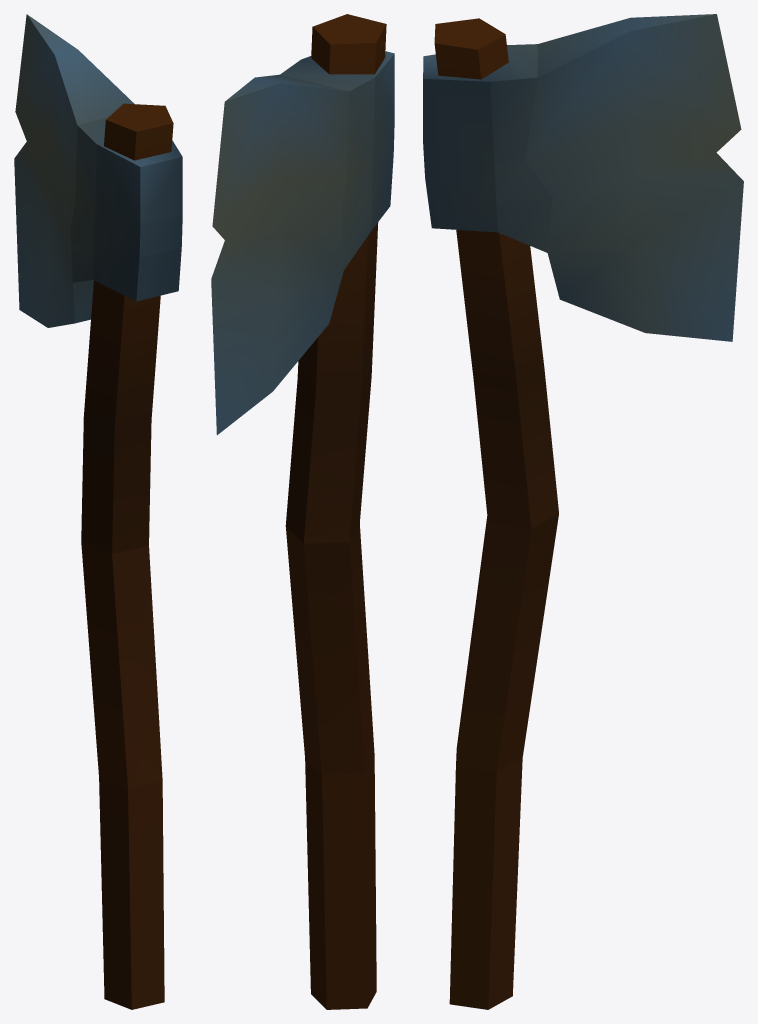
File: Axe Iron.fbx
The picture shows the model from 3 angles, left to right: view 1: azimuth 30°, elevation 25°; view 2: azimuth 150°, elevation 25°; view 3: azimuth 270°, elevation 25°; orthographic projection. The views are drawn at different scales.
Visible parts, largest first — view 1: Axe_Iron; view 2: Axe_Iron; view 3: Axe_Iron.
Part boxes in pixels (x1,y1,x2,y2): Axe_Iron: (14, 14, 182, 1009); Axe_Iron: (211, 14, 394, 1009); Axe_Iron: (423, 14, 743, 1009).
Bounding box in the file's own units: 14.54 × 184 × 54.56.
